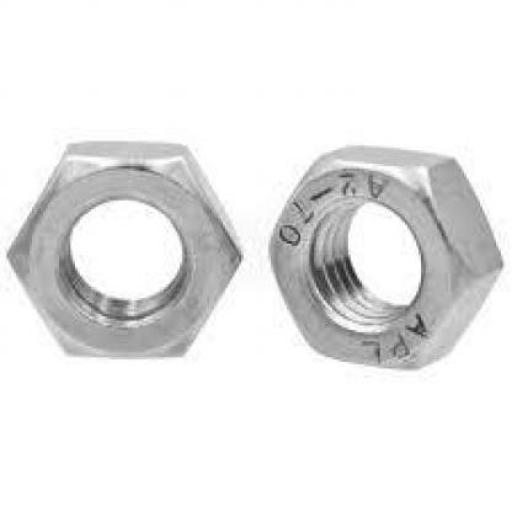Nut: (268, 145, 504, 372), (6, 140, 245, 358)
